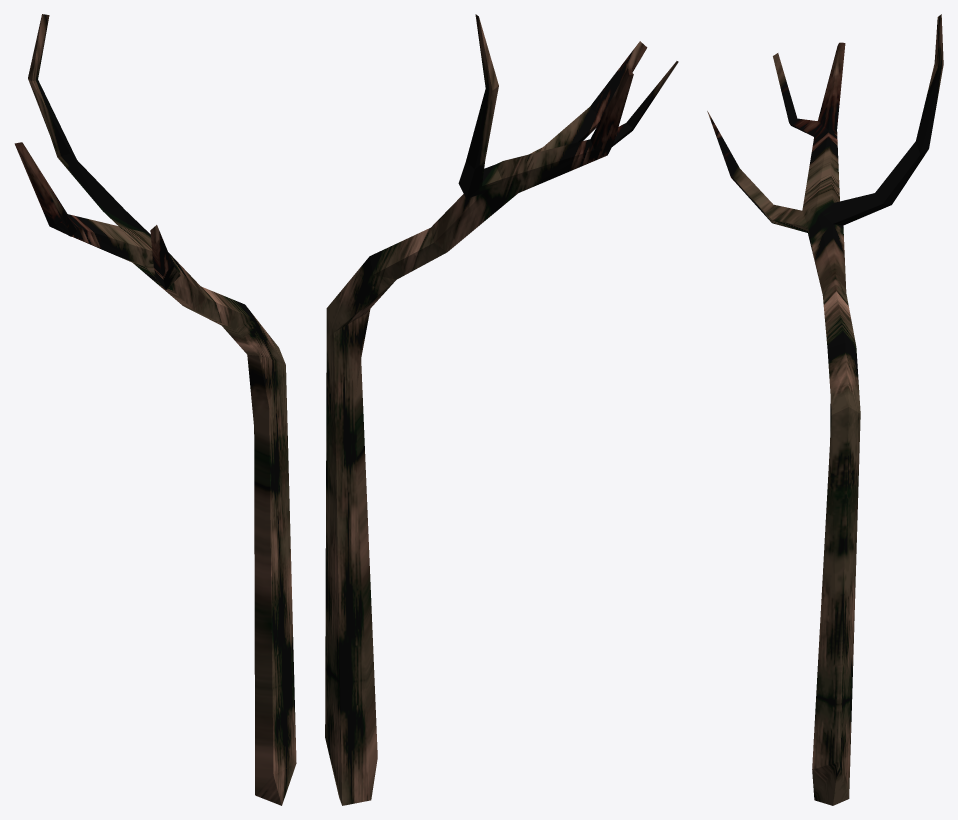
3 views of the same model, side by side, from view 1: azimuth 30°, elevation 25°; view 2: azimuth 150°, elevation 25°; view 3: azimuth 270°, elevation 25° (orthographic). The views are drawn at different scales.
Parts seen in each view (by area): view 1: BT_5; view 2: BT_5; view 3: BT_5.
Part boxes in pixels (x1=…): BT_5: x1=14, y1=14, x2=296, y2=805; BT_5: x1=325, y1=14, x2=678, y2=805; BT_5: x1=707, y1=14, x2=943, y2=805.
Size of the model in its own units: 9.78 by 26.22 by 7.9.
Materials: 1 (1 with a texture image).
